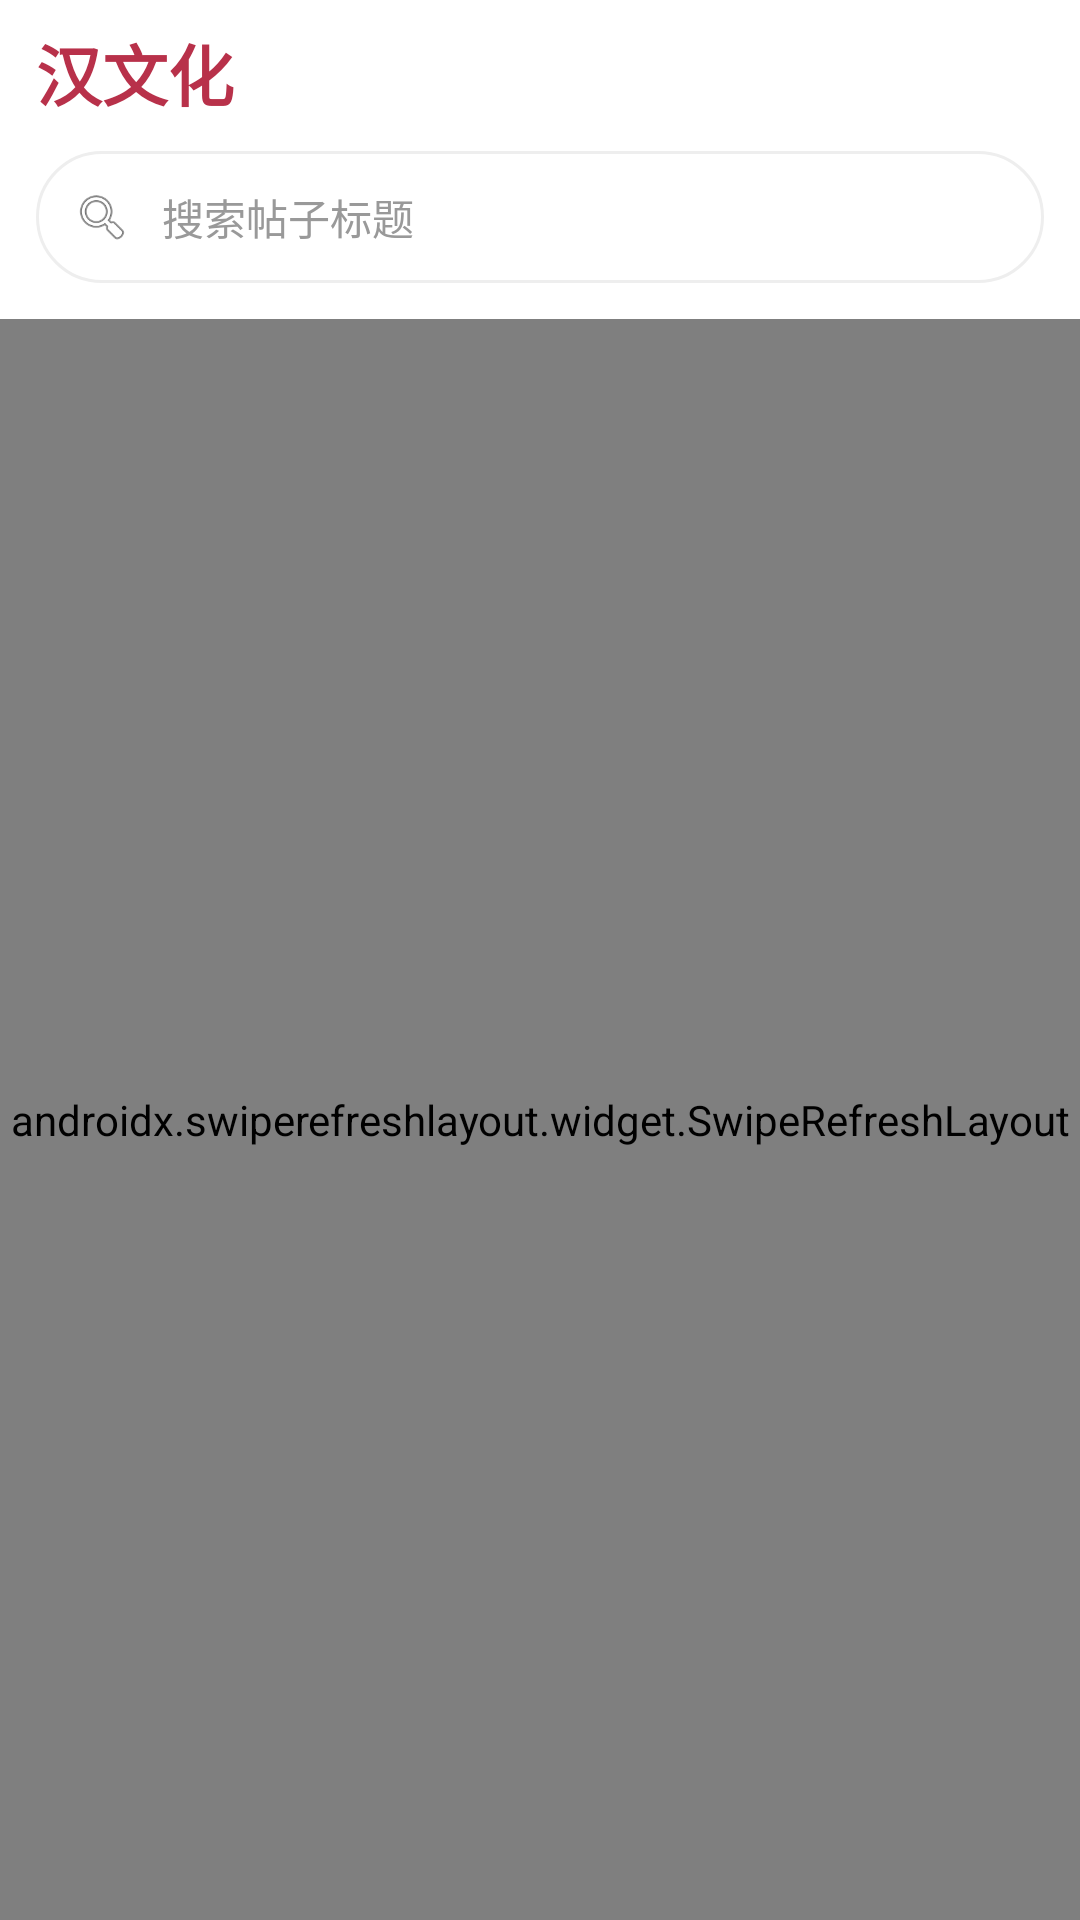

Locate icon controls on the screen. Image size 1080 x 1920, boxes as (x1, y1, x2, y2).
search: (80, 195, 124, 240)
